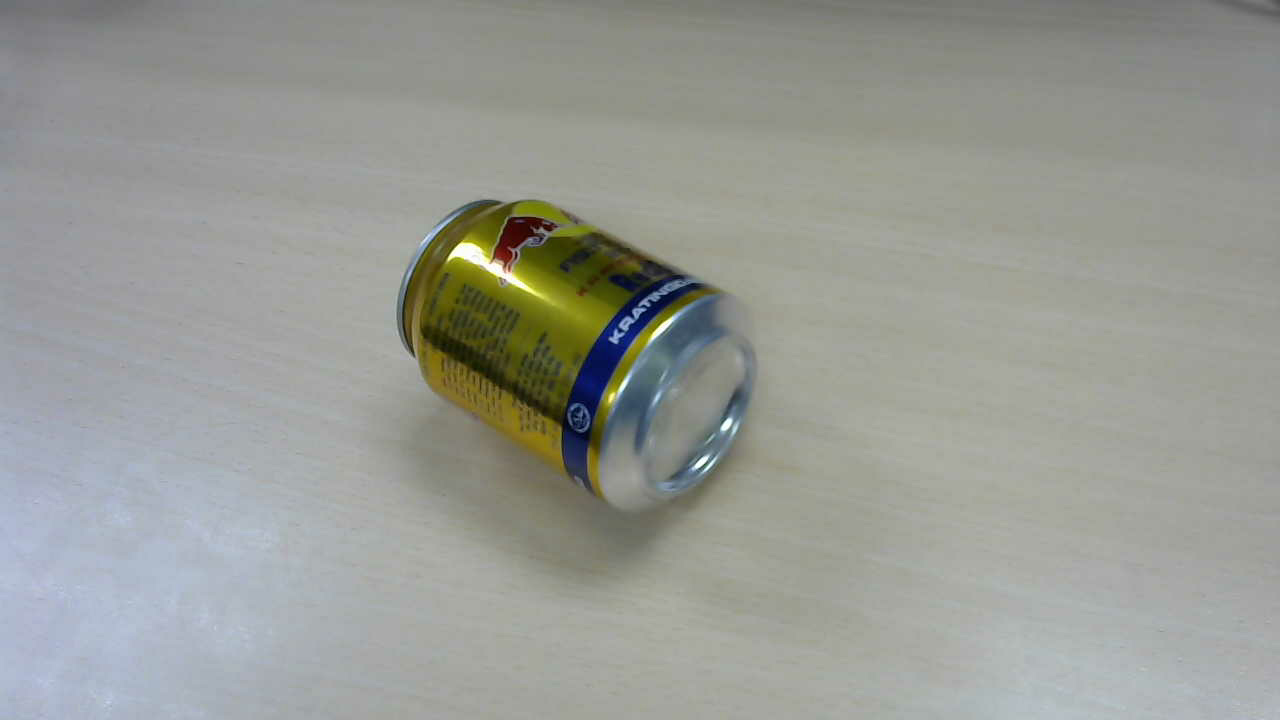Red_Bull: (400, 196, 771, 516)
